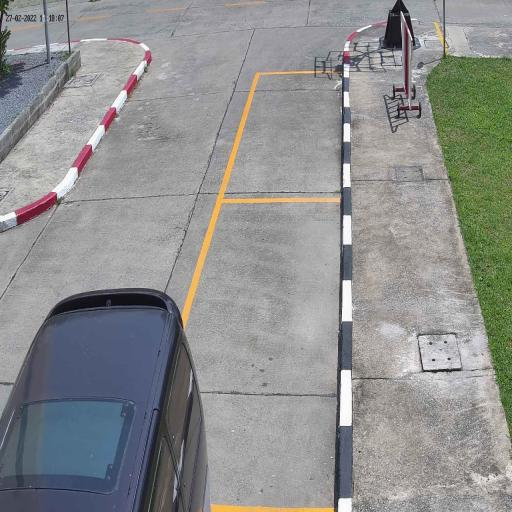car: (0, 286, 213, 512)
